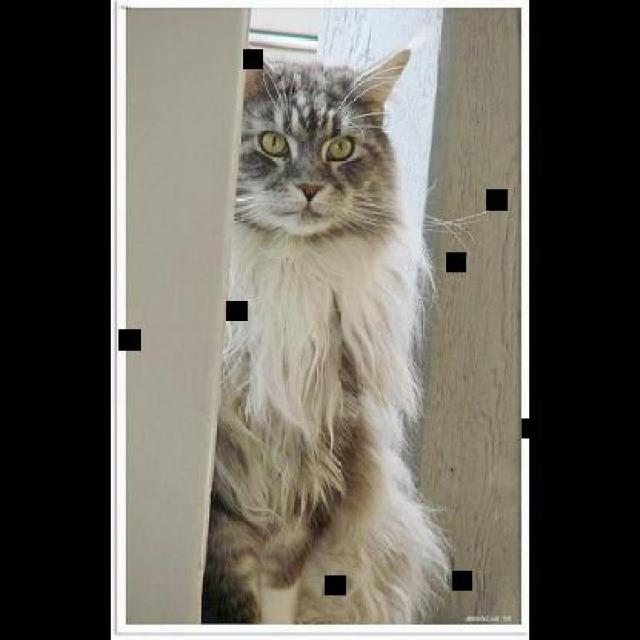unauthorized: (198, 45, 494, 624)
